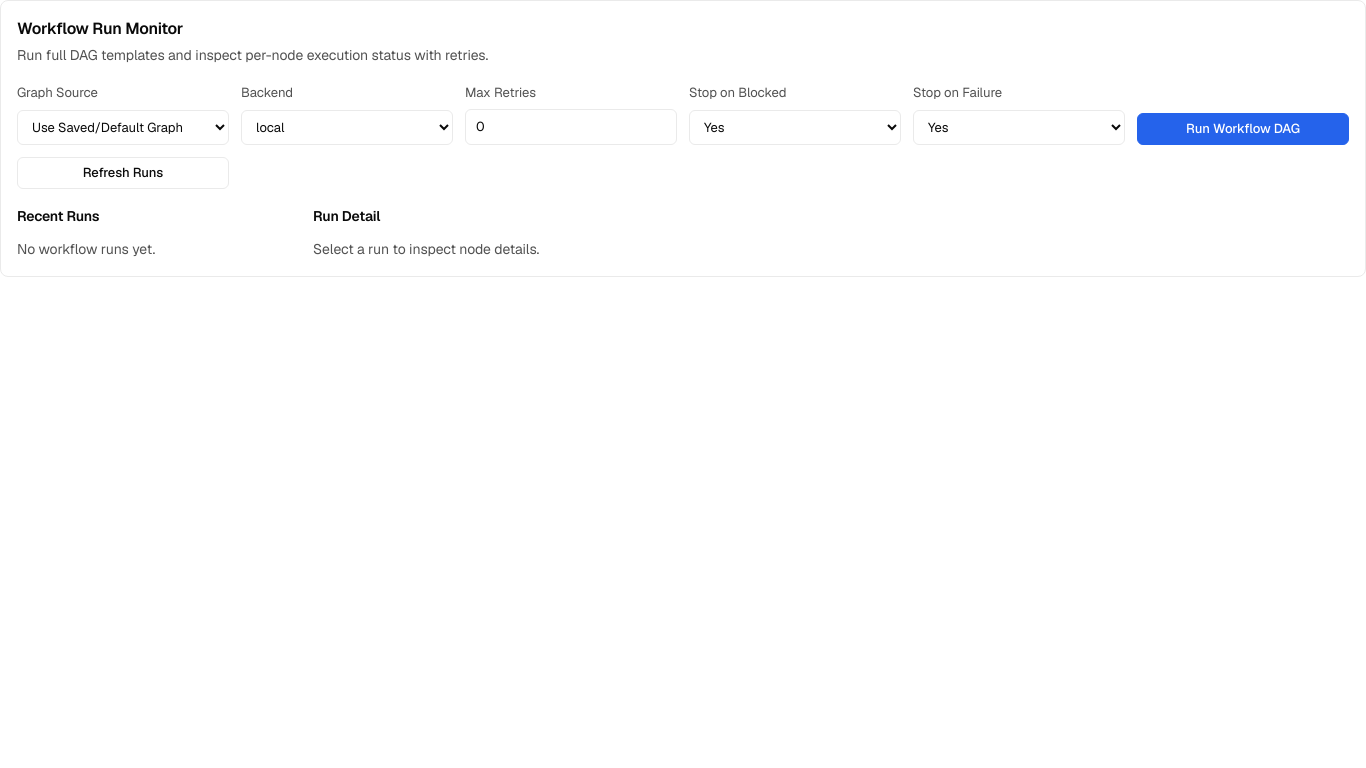
it: WorkflowRunMonitor autopilot gate › uses promoted scorecard recommendation for autopilot profile payload
The image size is (1366, 768).
Select "Autopilot Chat Pipeline" in the dropdown labelled "Graph Source" at (123, 127), box top-left (17, 110), bottom-right (229, 144)
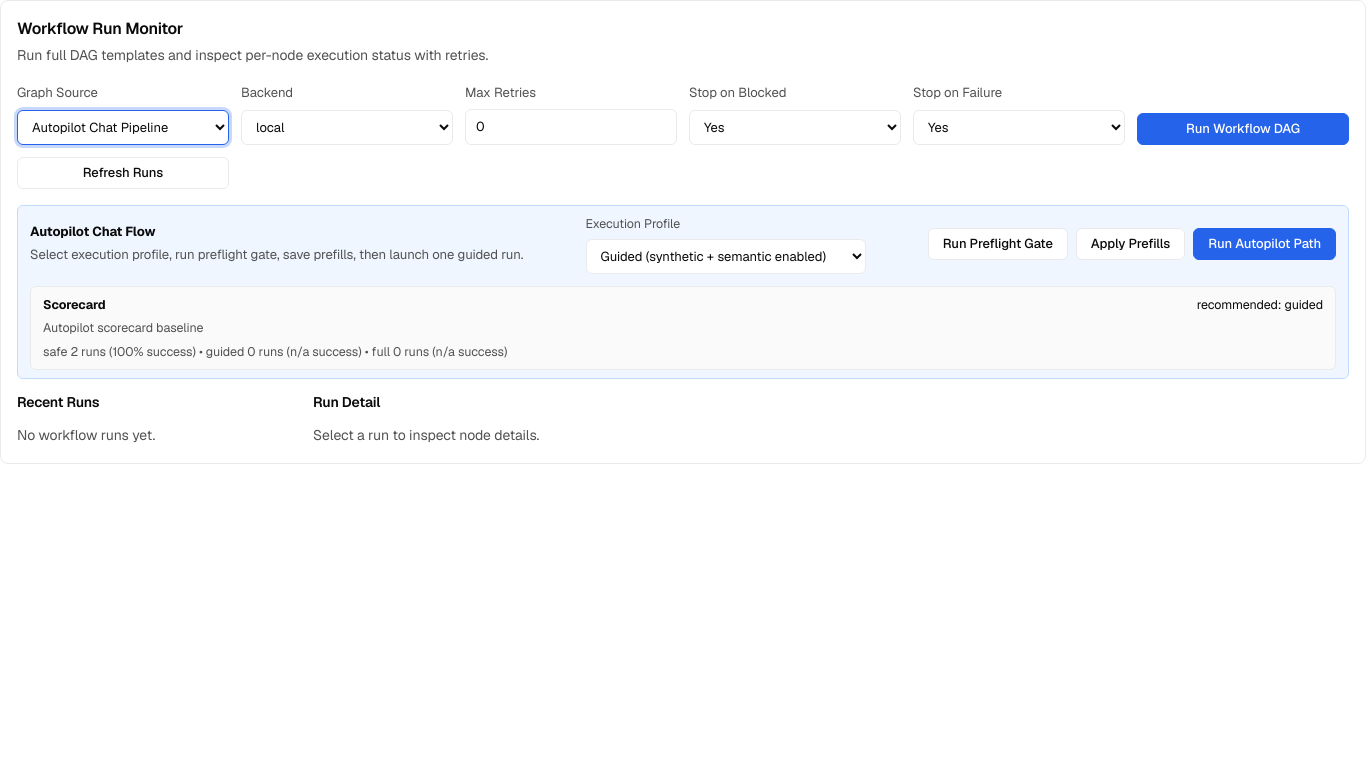
Now the text "Autopilot Chat Flow" is shown, box top-left (30, 223), bottom-right (155, 240)
Now the text "recommended: guided" is shown, box top-left (1197, 295), bottom-right (1323, 314)
Click the button "Run Autopilot Path" at (1265, 244), box top-left (1193, 228), bottom-right (1336, 260)
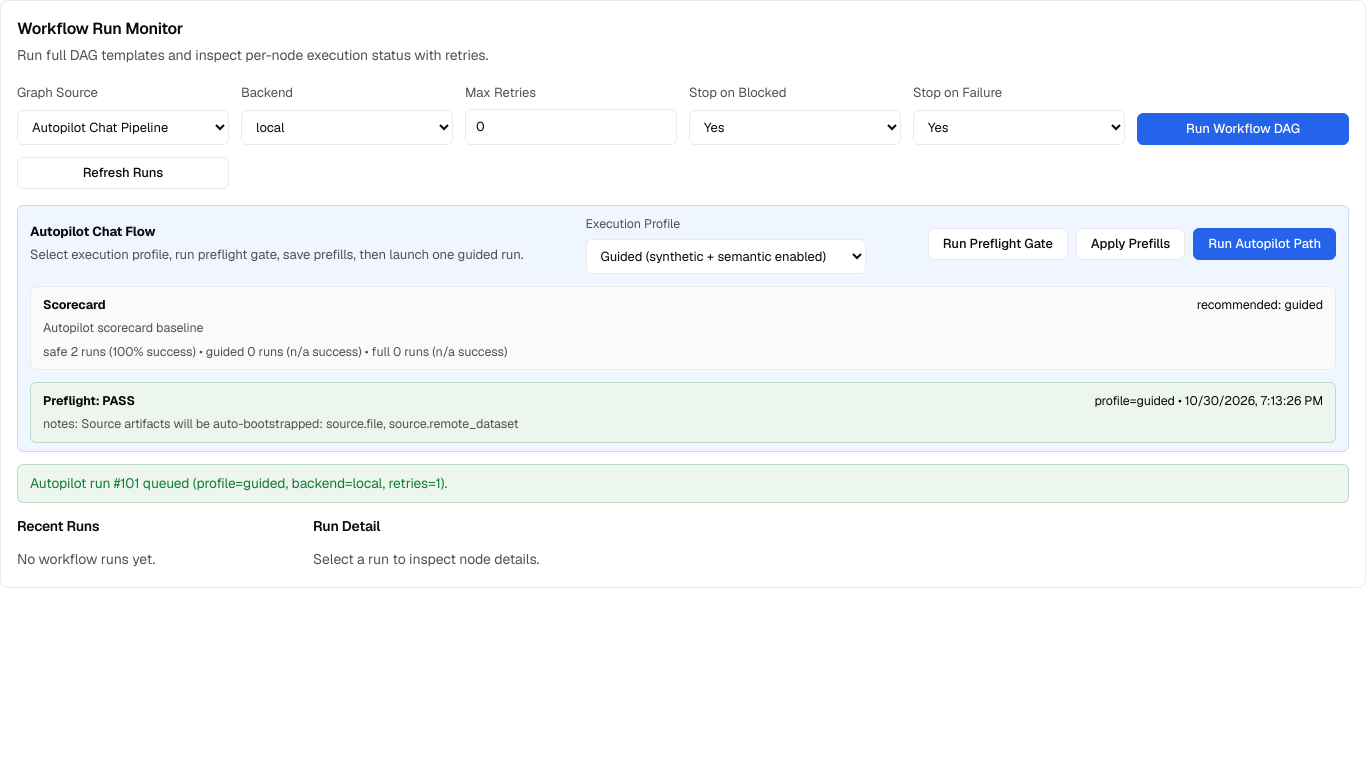
Now the text "Autopilot run #101 queued" is shown, box top-left (30, 474), bottom-right (447, 492)
